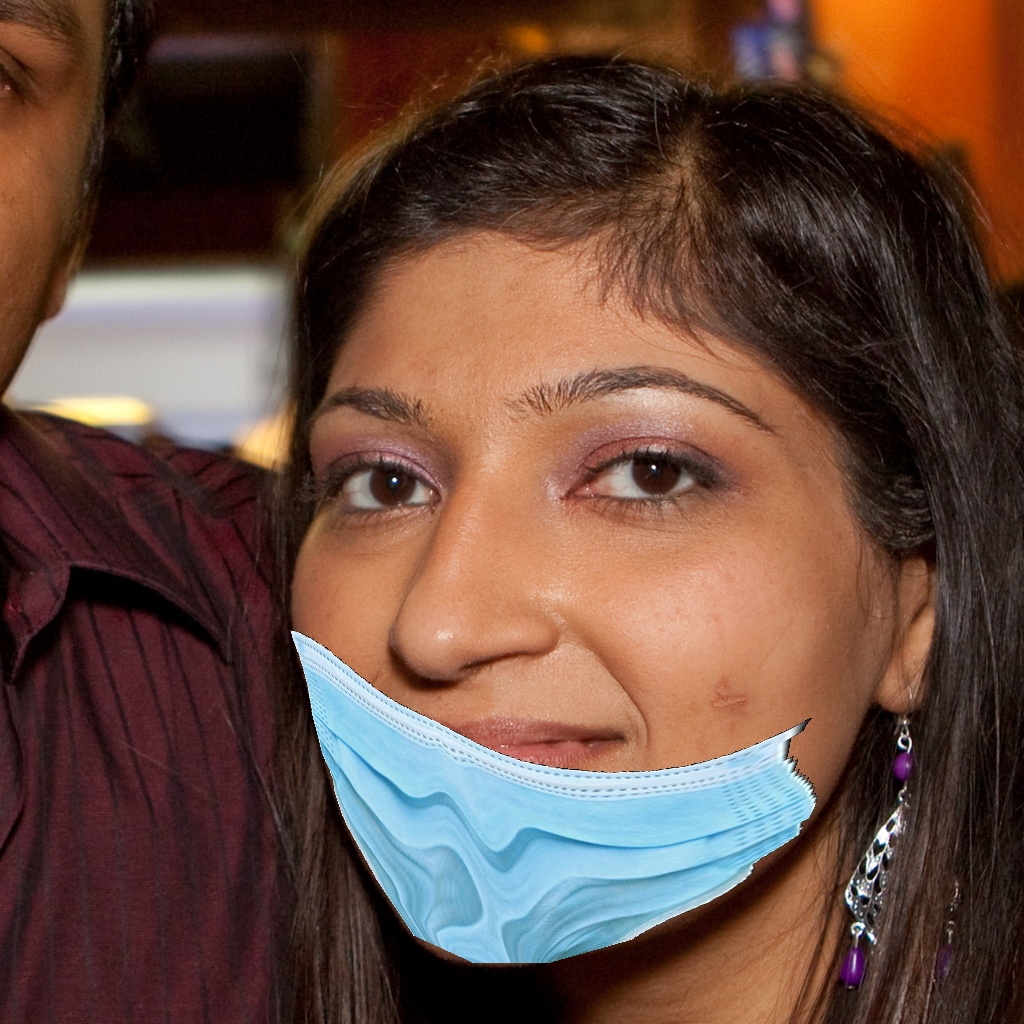mask_weared_incorrect: (261, 378, 901, 988)
